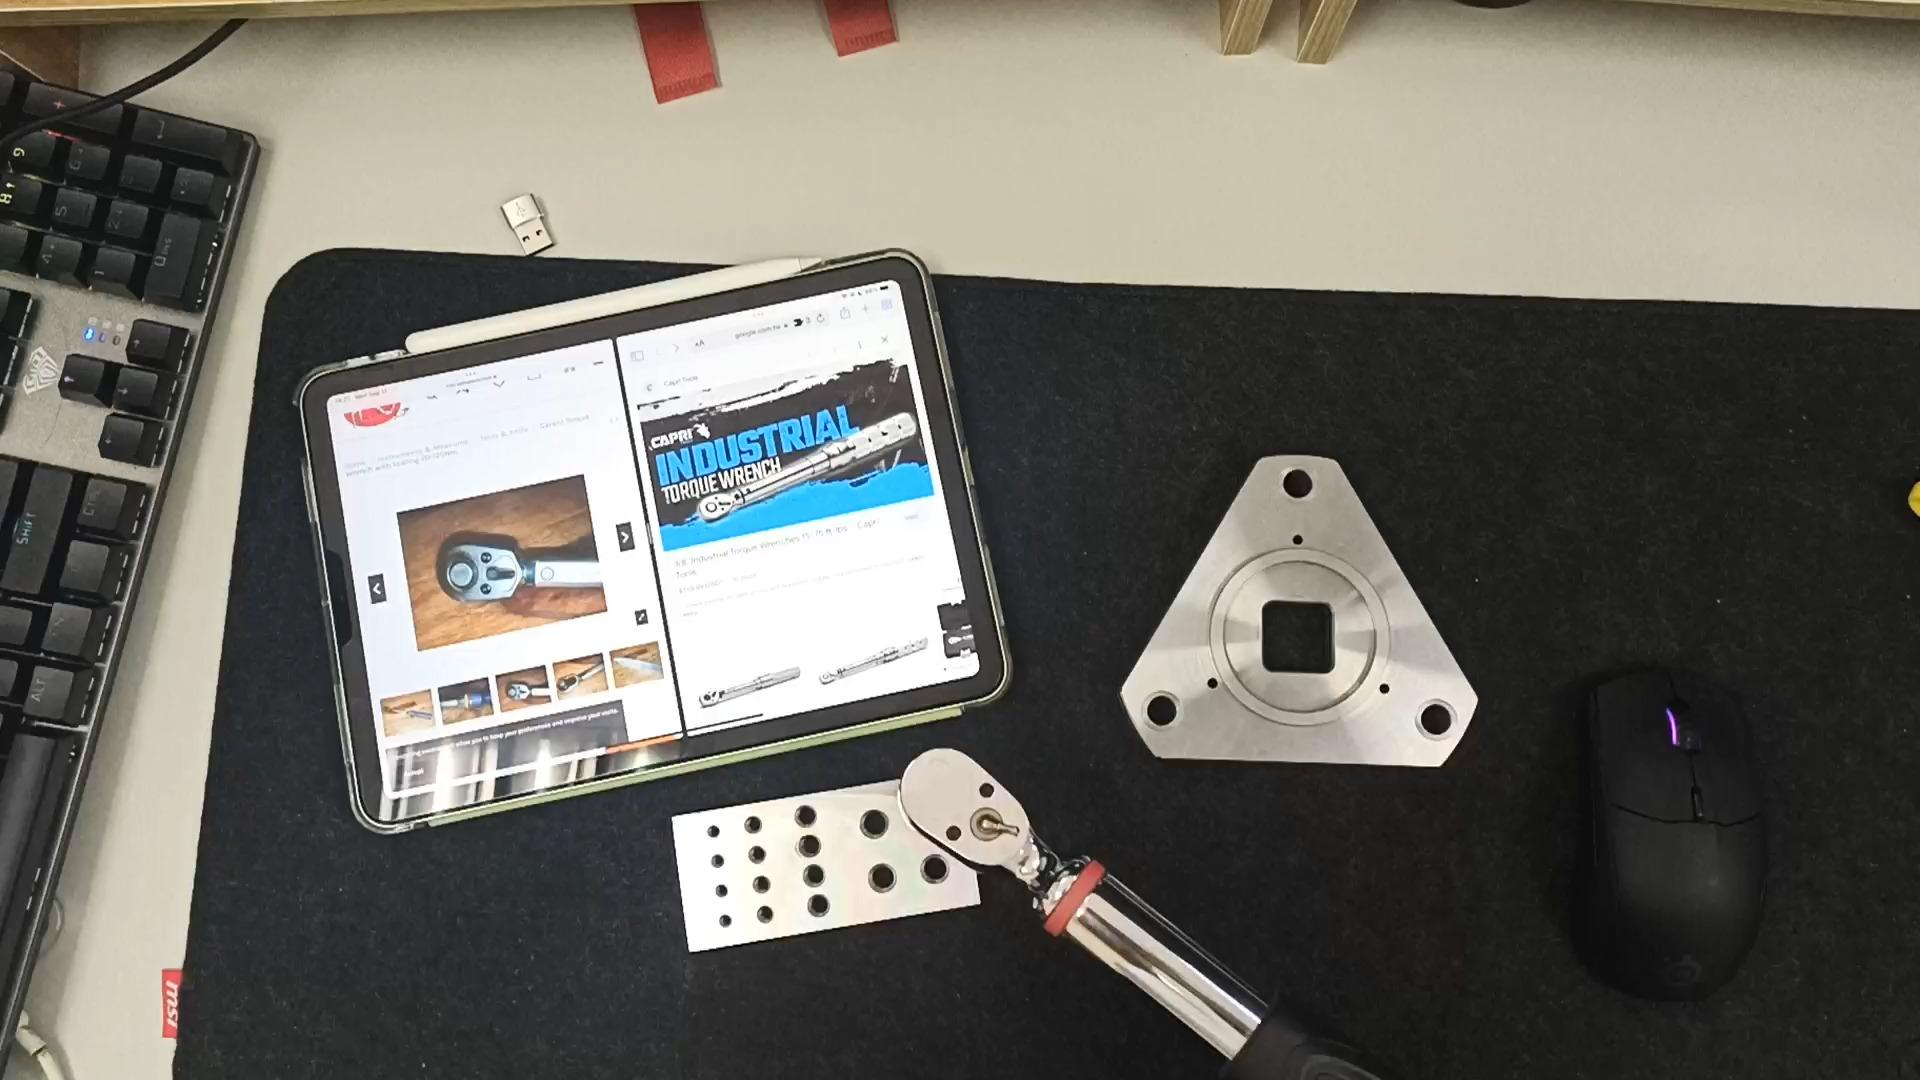Tool: (897, 744, 1067, 902), (436, 526, 530, 613), (695, 485, 735, 526)
hole: (1408, 702, 1474, 750), (1273, 471, 1333, 513), (843, 807, 905, 847), (1135, 696, 1191, 740), (907, 855, 967, 891), (861, 861, 913, 897), (785, 837, 831, 866), (796, 897, 841, 924), (782, 807, 824, 833), (794, 866, 835, 891), (733, 848, 771, 870), (736, 878, 774, 899), (729, 816, 766, 837), (742, 910, 778, 930), (702, 882, 735, 902), (694, 823, 728, 841), (698, 856, 731, 874), (704, 916, 736, 935)
